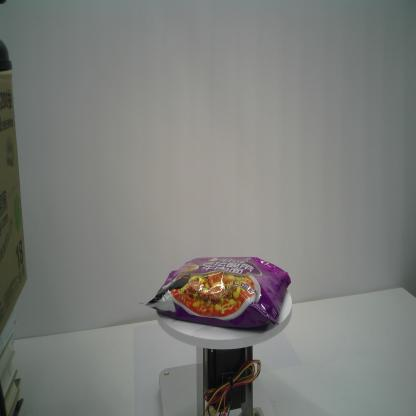Instant Noodles: (140, 256, 294, 334)
